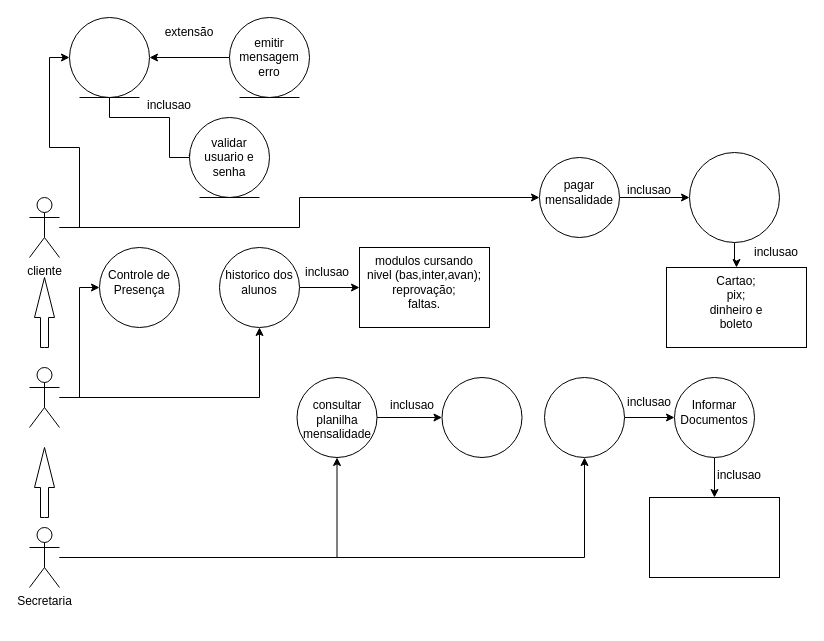
Some shapes in this 824 by 641 pixel diagram are drawn without their labels. The shapes that lost their labels are listed below. From the top down, each one's centre as x and y in pixels, then its label:
point 109,57: login
point 734,197: informar forma de pagamento
point 44,397: Professor
point 481,417: data de pagamento
point 584,417: Matricula
point 714,537: RG CPF NUM Telefone Email
